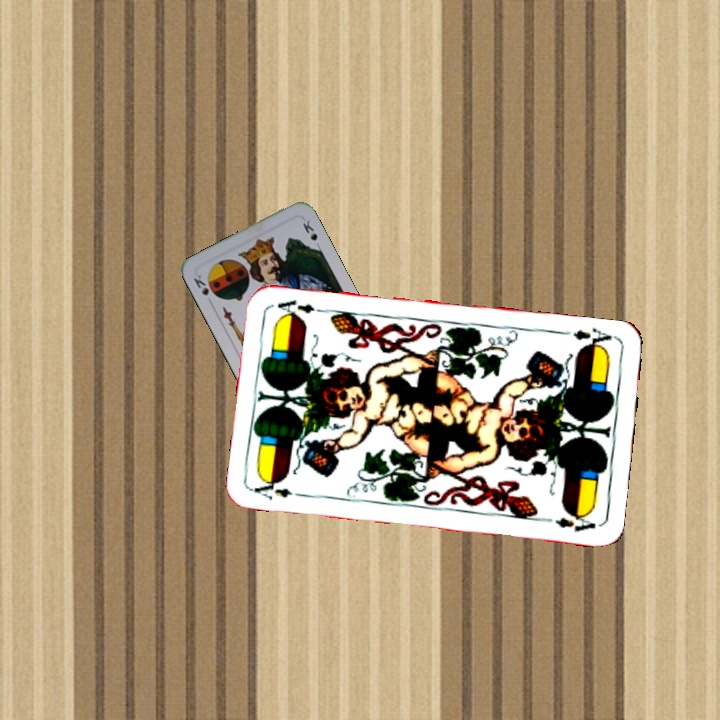EA: (559, 324, 618, 353), (250, 475, 309, 502)
SK: (189, 270, 218, 299)
